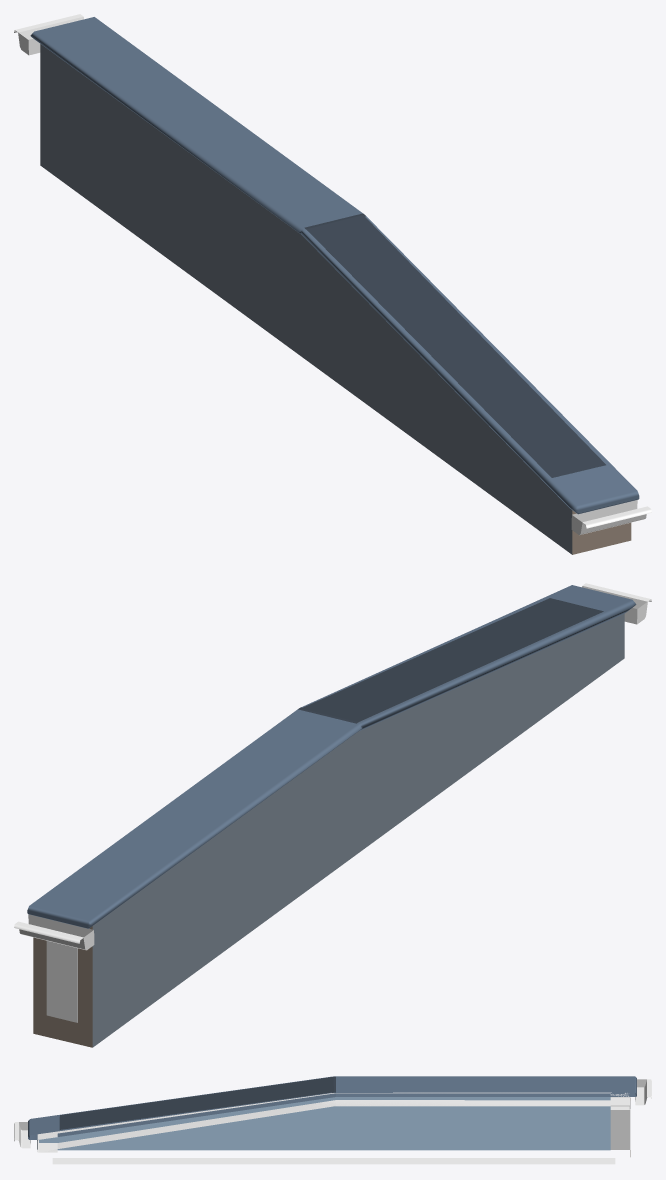
Rendered from si_res_endcap_roof_sloped_l.dae.
3 renders of one model, top to bottom at view 1: azimuth 30°, elevation 25°; view 2: azimuth 150°, elevation 25°; view 3: azimuth 270°, elevation 25°, orthographic. The views are drawn at different scales.
Parts seen in each view (by area): view 1: si_res_endcap_roof_sloped_l_a10, si_res_endcap_roof_sloped_l_a300; view 2: si_res_endcap_roof_sloped_l_a10, si_res_endcap_roof_sloped_l_a300, si_res_endcap_roof_sloped_l_40; view 3: si_res_endcap_roof_sloped_l_a300, si_res_endcap_roof_sloped_l_a10, si_res_endcap_roof_sloped_l_40.
Part boxes in pixels (x1,y1,x2,y2): si_res_endcap_roof_sloped_l_a10: (40,44,631,554); si_res_endcap_roof_sloped_l_a300: (14,14,651,535); si_res_endcap_roof_sloped_l_a10: (33,598,624,1047); si_res_endcap_roof_sloped_l_a300: (14,583,651,1020); si_res_endcap_roof_sloped_l_40: (46,941,77,1022); si_res_endcap_roof_sloped_l_a300: (14,1076,651,1164); si_res_endcap_roof_sloped_l_a10: (37,1076,630,1156); si_res_endcap_roof_sloped_l_40: (29,1092,635,1152).
Size of the model in its own units: 0.4444 by 6.74 by 0.85.
